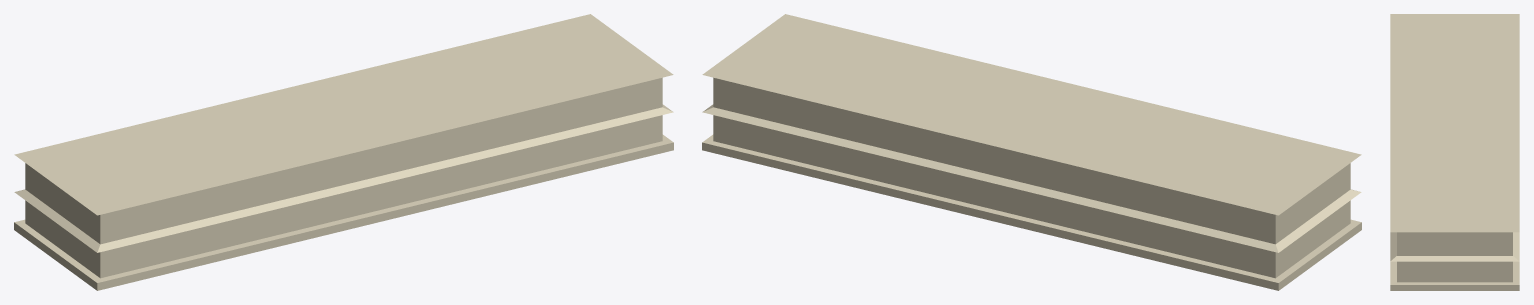
The model's file is roman_roof_support_1_rect.fbx.
3 views of the same model, side by side, from view 1: azimuth 30°, elevation 25°; view 2: azimuth 150°, elevation 25°; view 3: azimuth 270°, elevation 25° (orthographic). The views are drawn at different scales.
Visible parts, largest first — view 1: Cube.007; view 2: Cube.007; view 3: Cube.007.
Boxes of the visible parts, bbox=[...] form: Cube.007: bbox=[14, 14, 673, 290]; Cube.007: bbox=[702, 14, 1361, 290]; Cube.007: bbox=[1390, 14, 1519, 290].
Bounding box in the file's own units: 8 × 1 × 2.
